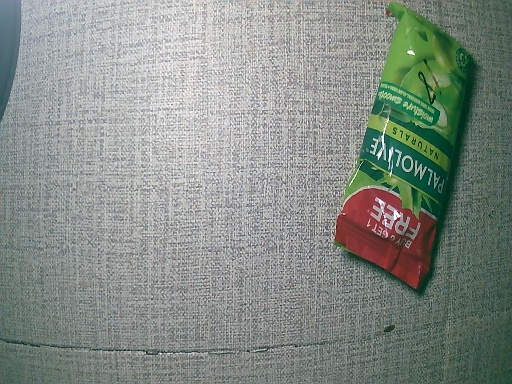plastic: (329, 7, 477, 296)
